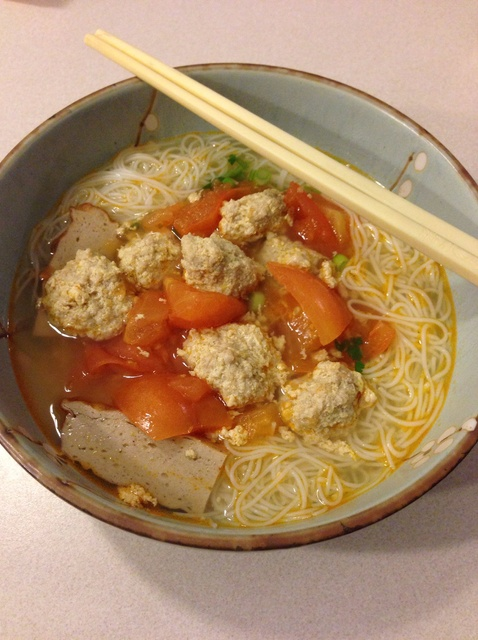chamoc: (50, 391, 231, 514), (49, 247, 134, 340), (186, 325, 280, 403), (173, 229, 266, 301), (275, 362, 361, 429)
tomato: (96, 342, 204, 436), (277, 259, 357, 344), (134, 285, 189, 343)
